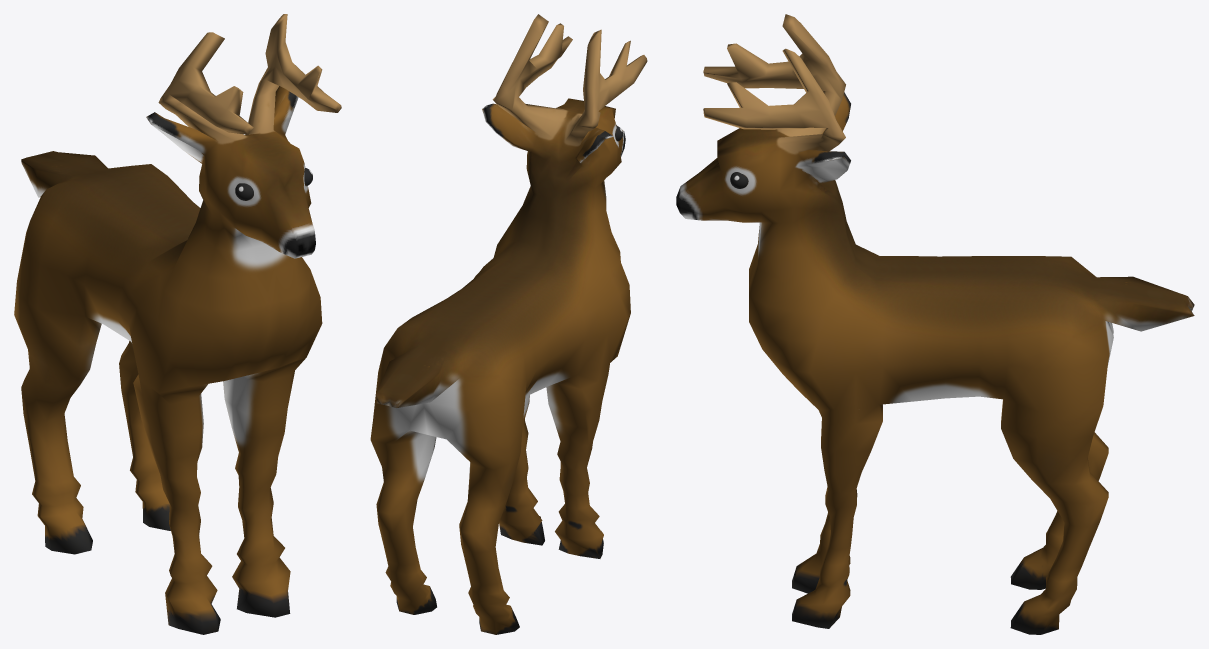
Rendered from Deer_FBX_2.fbx.
3 views of the same model, side by side, from view 1: azimuth 30°, elevation 25°; view 2: azimuth 150°, elevation 25°; view 3: azimuth 270°, elevation 25° (orthographic). The views are drawn at different scales.
Parts seen in each view (by area): view 1: polySurface2; view 2: polySurface2; view 3: polySurface2.
Part boxes in pixels (x1,y1,x2,y2): polySurface2: [14, 14, 341, 634]; polySurface2: [370, 14, 647, 634]; polySurface2: [676, 14, 1194, 634].
Bounding box in the file's own units: 7.02 × 24.78 × 20.37.
